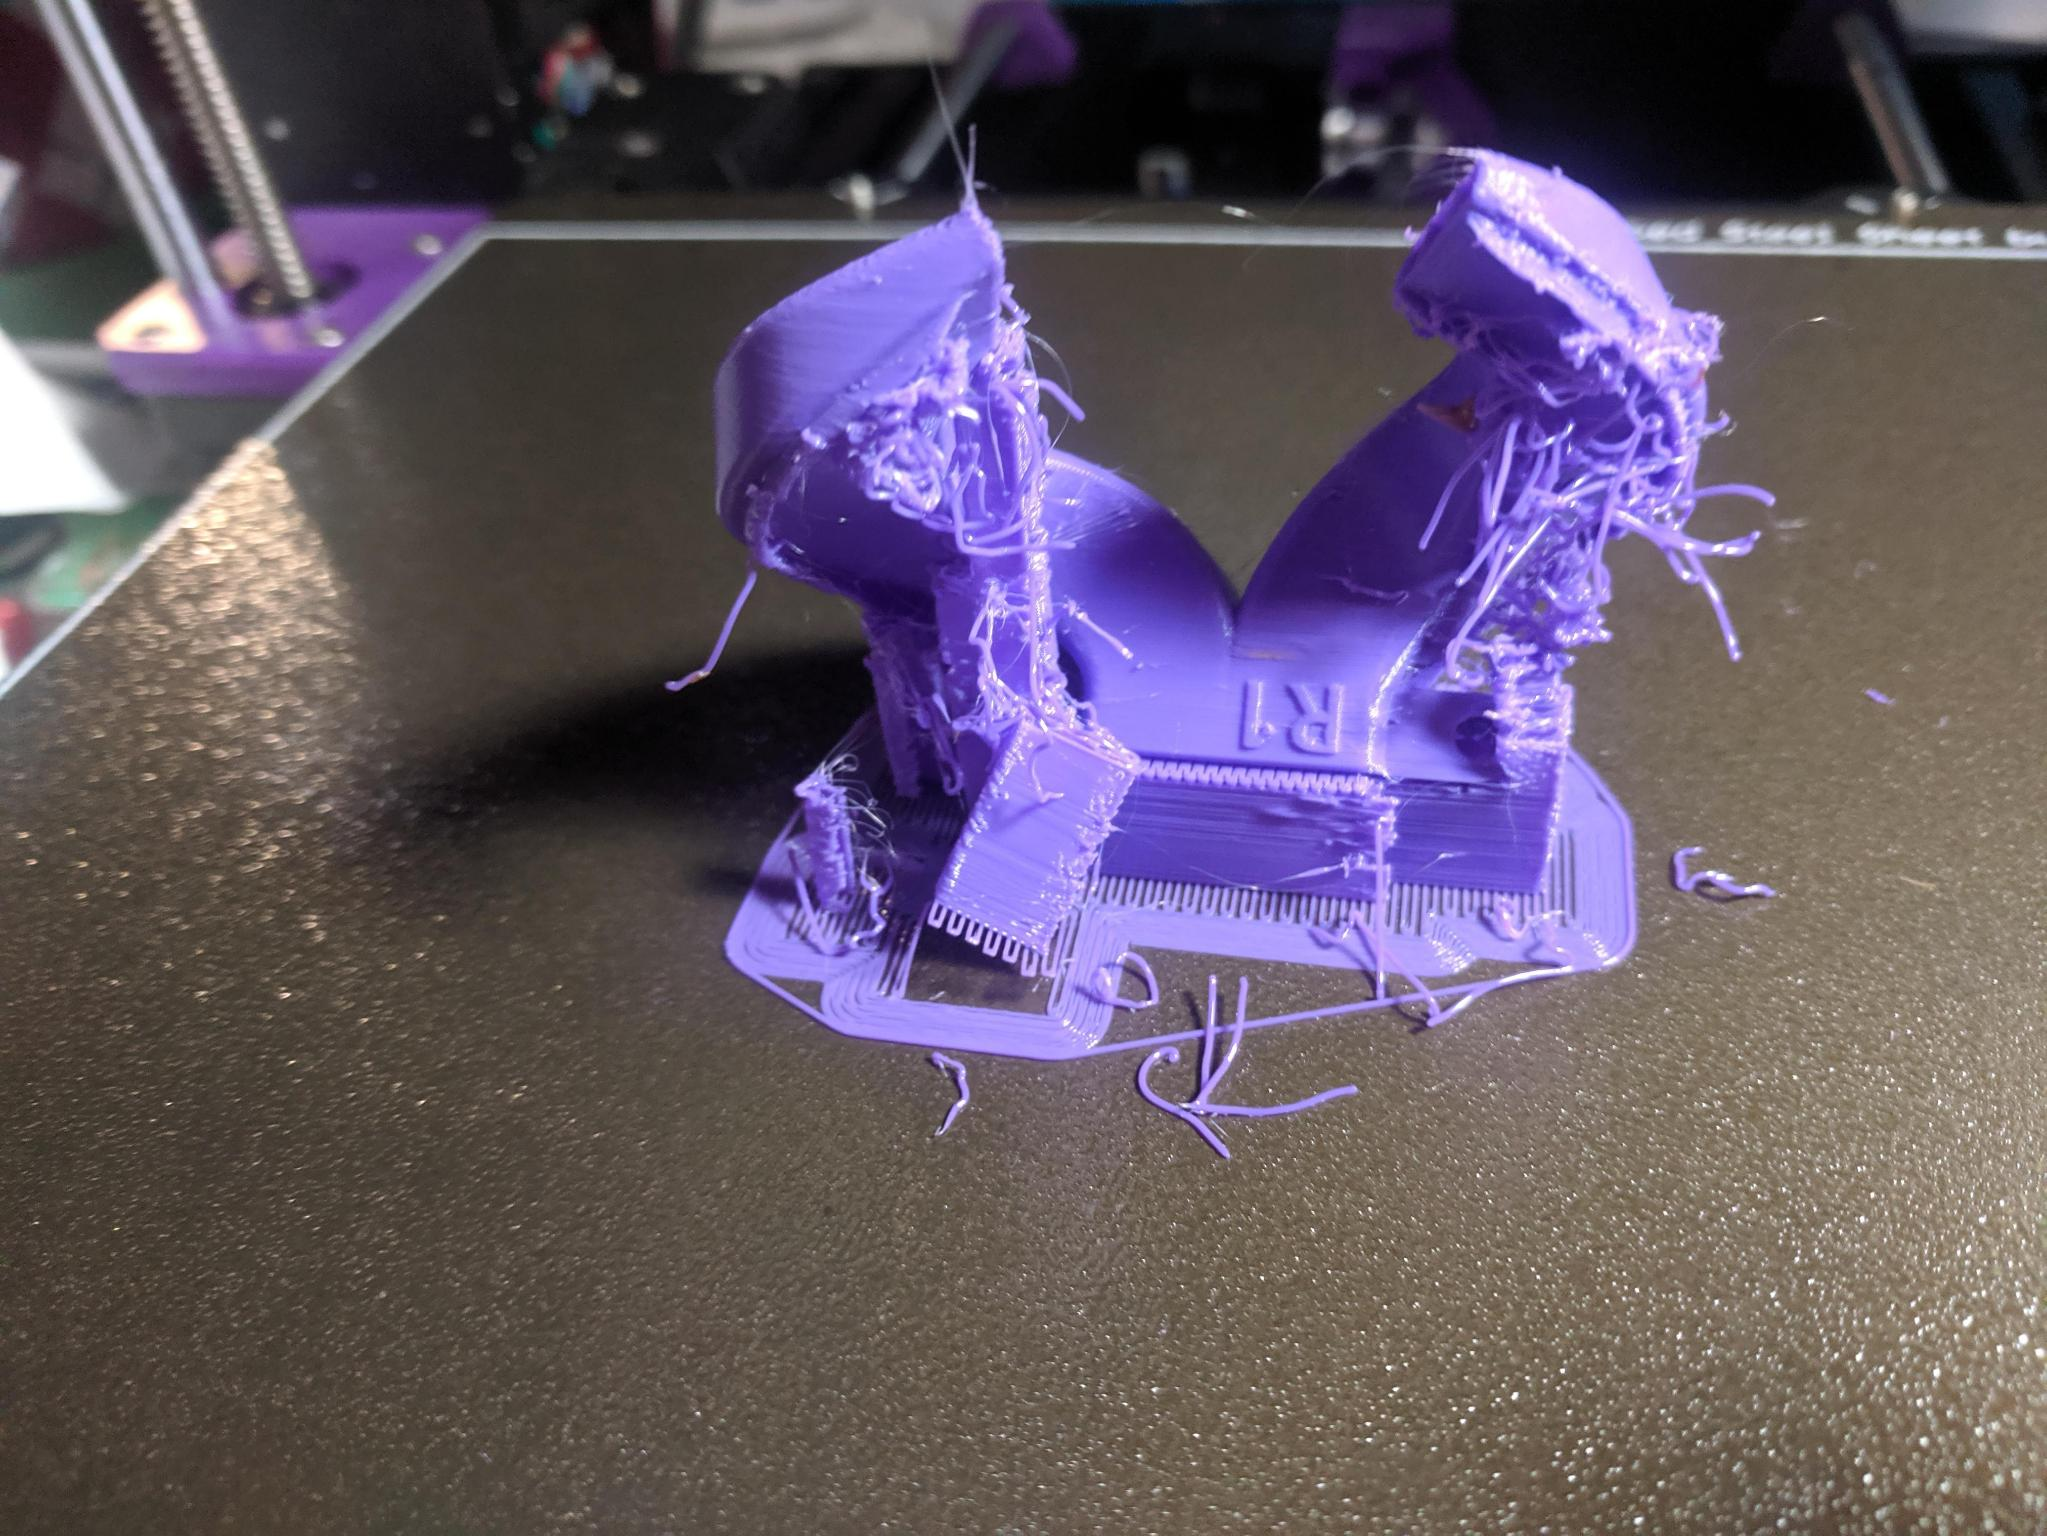Printing-Artifact: (1423, 257, 1779, 776), (834, 302, 1090, 579), (729, 721, 921, 976)
